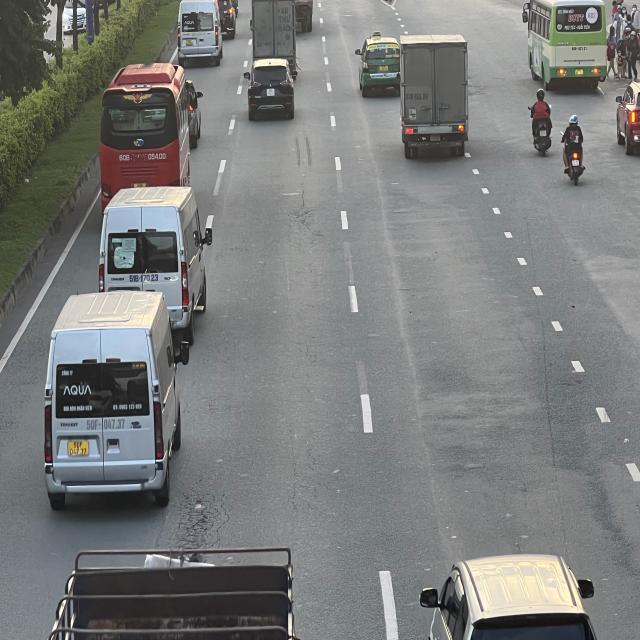car: (422, 557, 601, 640), (245, 59, 298, 118), (356, 36, 402, 96)
coach: (101, 65, 203, 210), (525, 0, 612, 84)
truck: (399, 34, 469, 156), (251, 0, 297, 68)
van: (46, 293, 193, 507), (98, 185, 213, 348), (179, 0, 224, 63)
